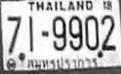0: (84, 15, 98, 50)
1: (28, 15, 33, 52)
2: (100, 14, 116, 51)
7: (7, 15, 21, 53)
9: (68, 15, 82, 50), (52, 15, 66, 50)
SPK: (24, 54, 100, 72)
